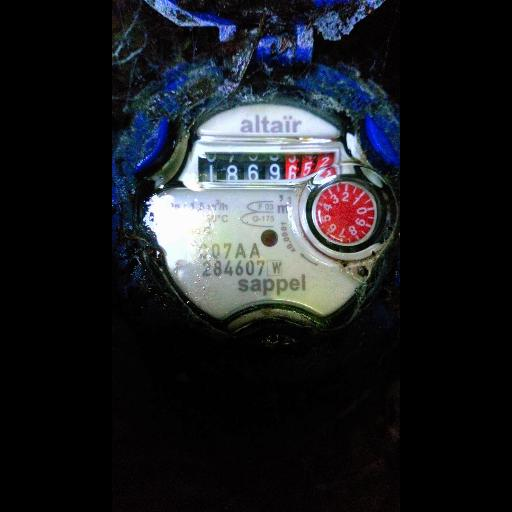1: (204, 153, 220, 183)
2: (314, 151, 335, 176)
5: (300, 153, 316, 180)
6: (244, 153, 262, 182), (286, 154, 301, 180)
8: (223, 153, 242, 184)
9: (265, 153, 284, 183)
border_water_meter_number: (196, 149, 341, 186)
